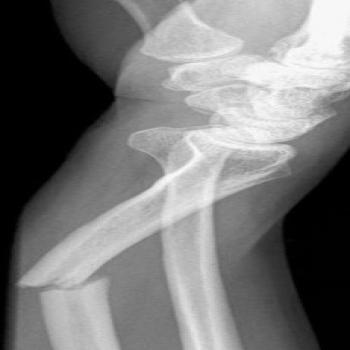Fracture: (12, 269, 124, 300)
